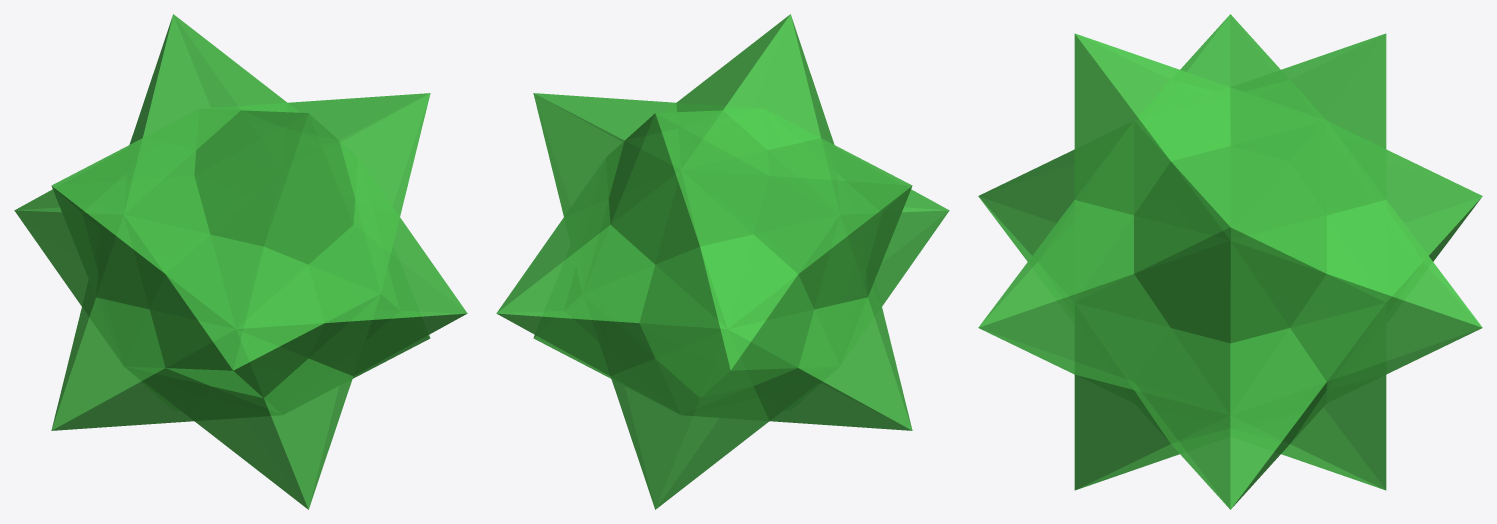
The model's file is MedialRhombicTriacontahedron.obj.
3 renders of one model, left to right at view 1: azimuth 30°, elevation 25°; view 2: azimuth 150°, elevation 25°; view 3: azimuth 270°, elevation 25°, orthographic. The views are drawn at different scales.
Size of the model in its own units: 2.43 by 2.43 by 2.43.
